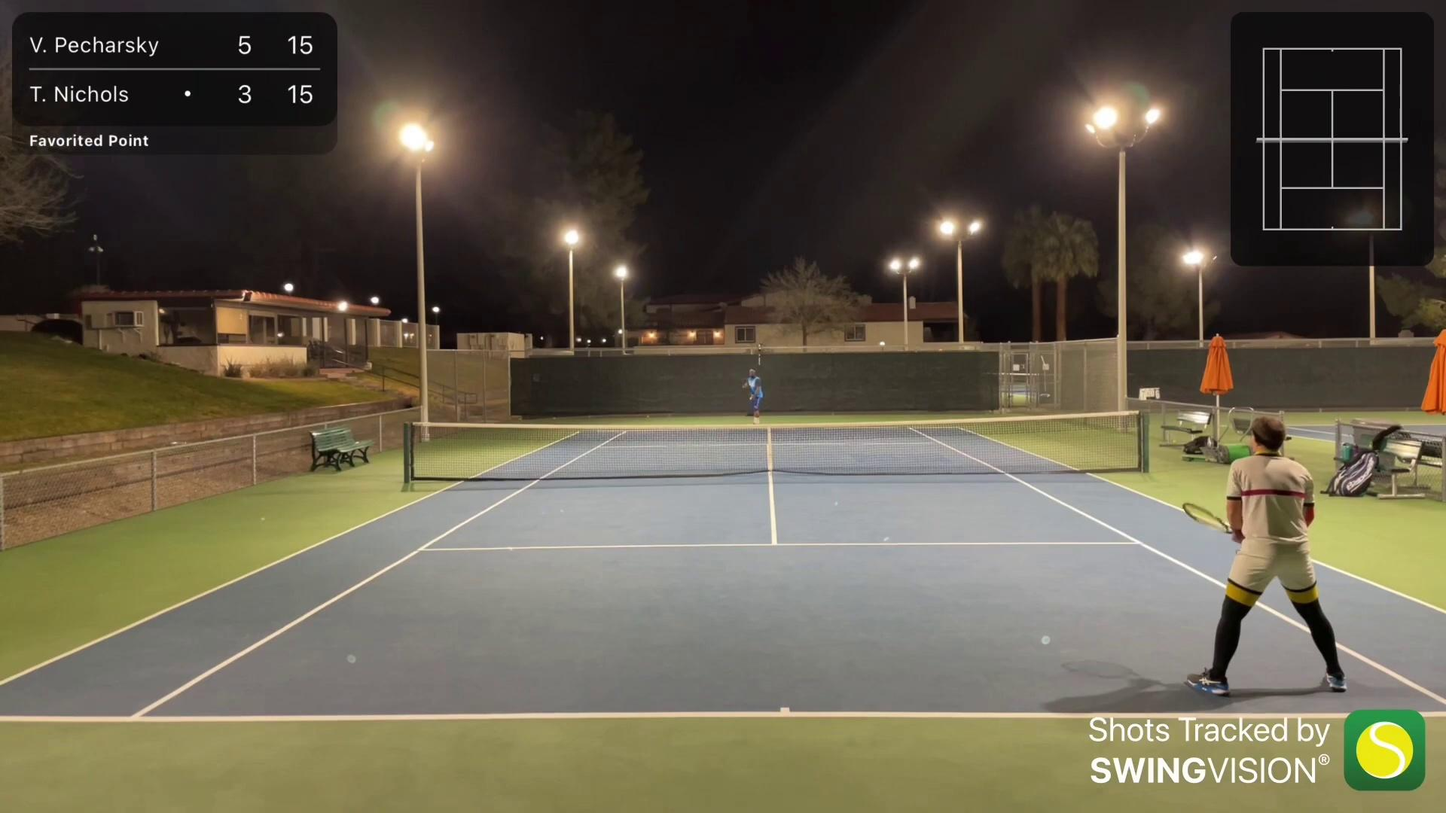ball: (746, 394, 752, 403)
